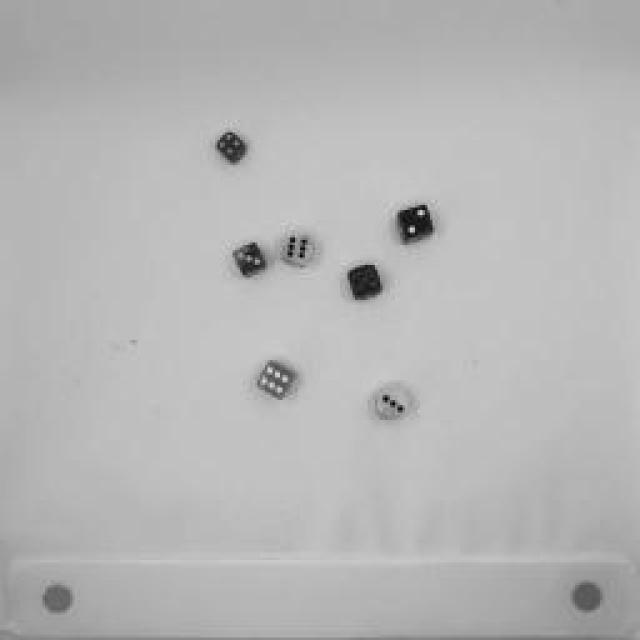dice_2: (394, 203, 431, 245)
dice_3: (231, 242, 269, 280), (374, 386, 411, 424)
dice_4: (212, 129, 248, 166)
dice_5: (344, 262, 384, 302)
dice_6: (254, 359, 298, 401), (280, 232, 315, 272)
